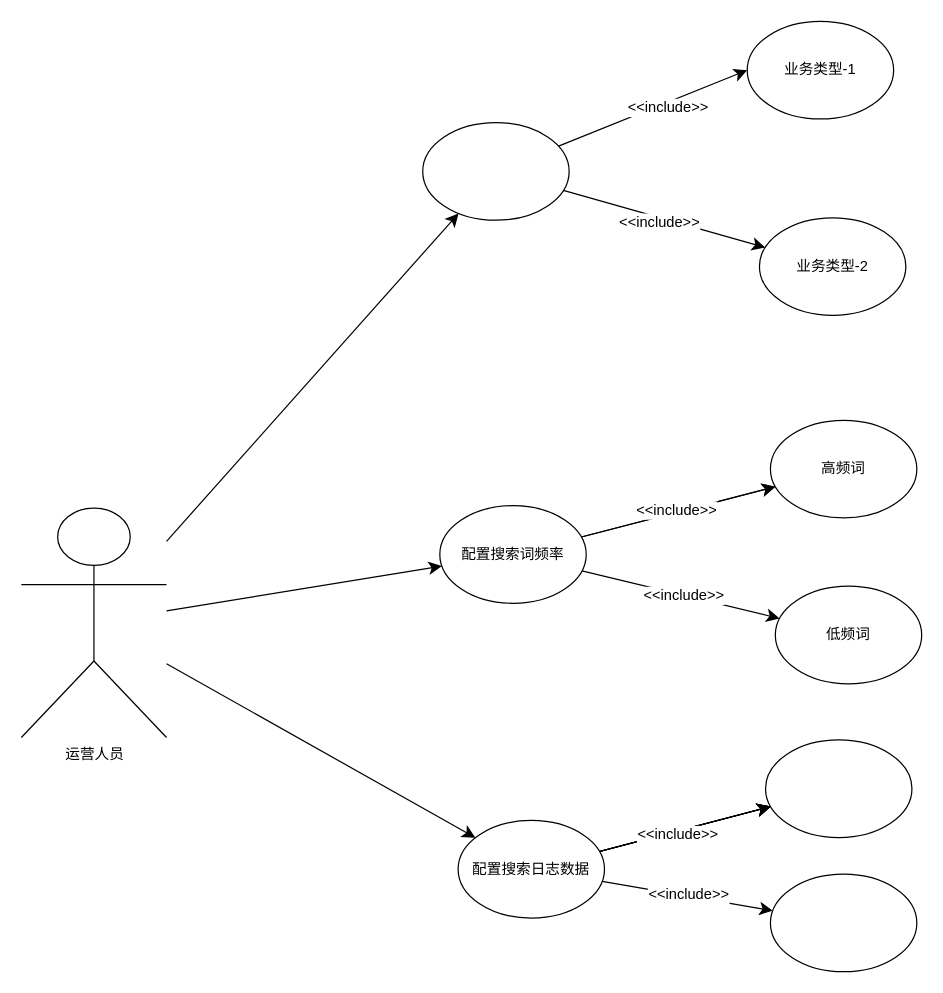
Some shapes in this 943 by 993 pixel diagram are drawn without their labels. The shapes that lost their labels are listed below. From the top down, each one's box as (x1, y1, x2, y2) in pixels, then its label:
(422, 121, 569, 220): 配置垂直搜索类型
(764, 739, 912, 838): 日期
(769, 873, 917, 972): 数据量
